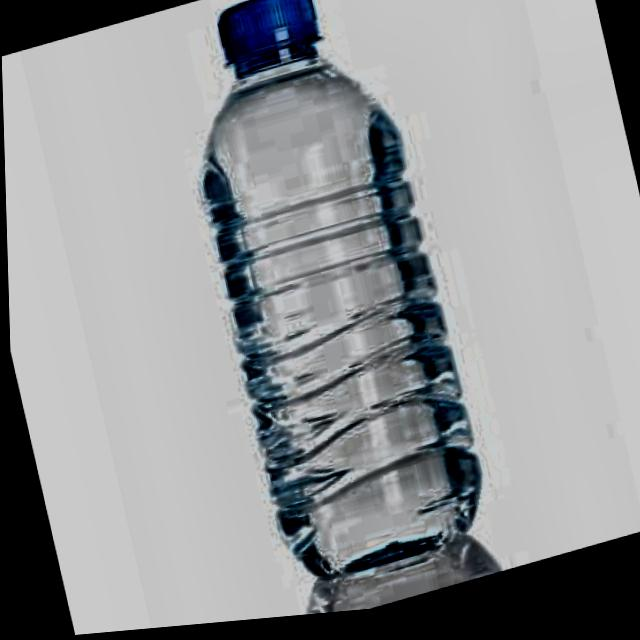Bottles: (128, 0, 515, 628)
